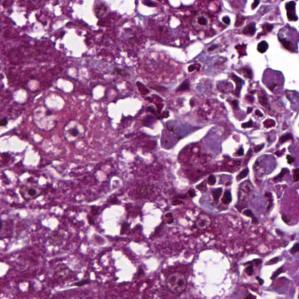ballooning: (190, 248, 240, 299)
